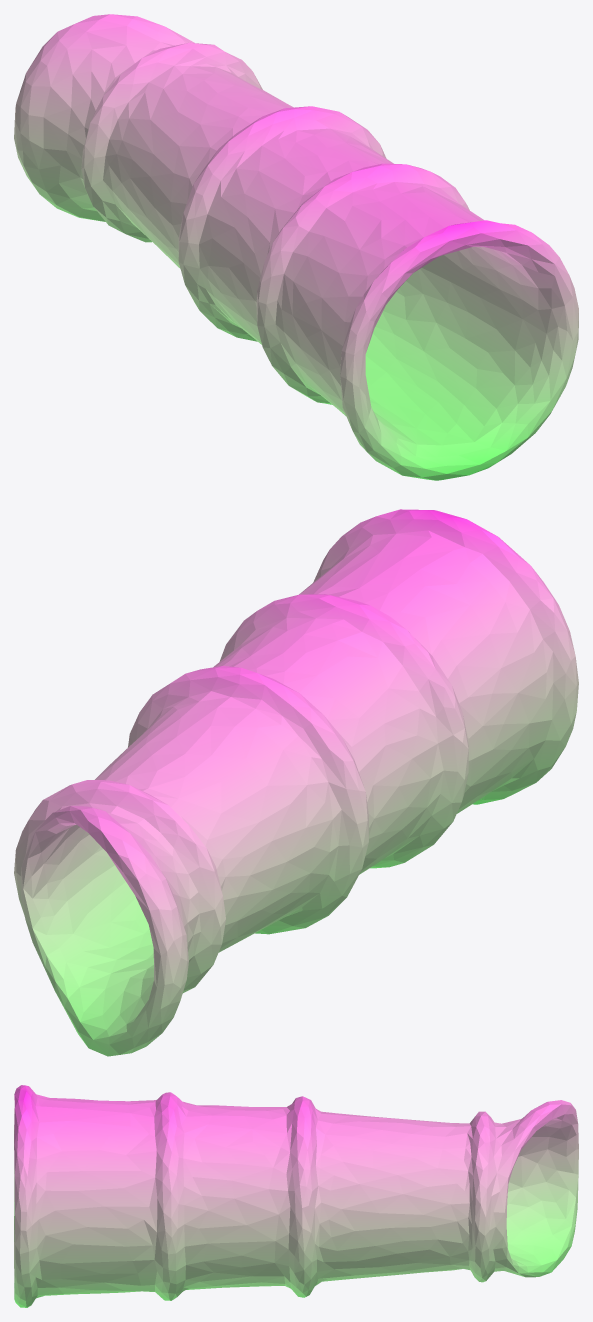
The model's file is 186_cyb_laser_gradient_fish_scales_2976_2026_10_03_bd1acf.glb.
The picture shows the model from 3 angles, top to bottom: view 1: azimuth 30°, elevation 25°; view 2: azimuth 150°, elevation 25°; view 3: azimuth 270°, elevation 25°; orthographic projection. The views are drawn at different scales.
Parts seen in each view (by area): view 1: geometry_0; view 2: geometry_0; view 3: geometry_0.
Boxes of the visible parts, x1,y1,x2,y2 form: geometry_0: (14,14,578,480); geometry_0: (14,509,578,1056); geometry_0: (14,1085,578,1307).
Bounding box in the file's own units: 0.3905 × 0.3984 × 1.
